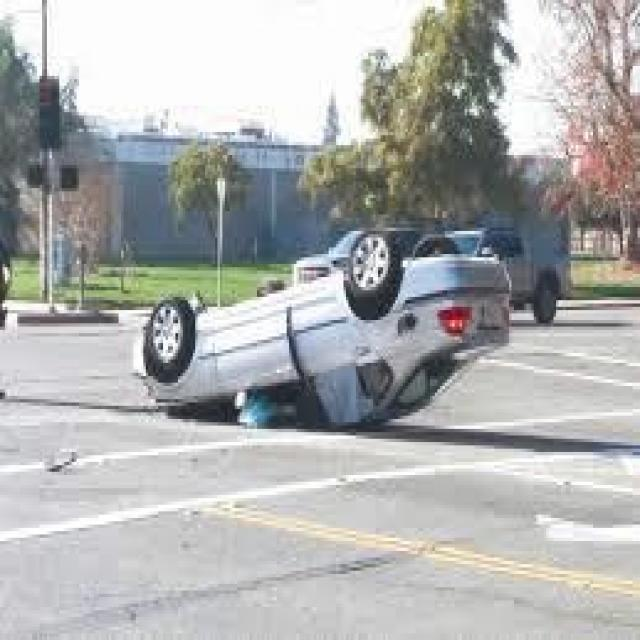single accident: (116, 226, 526, 444)
